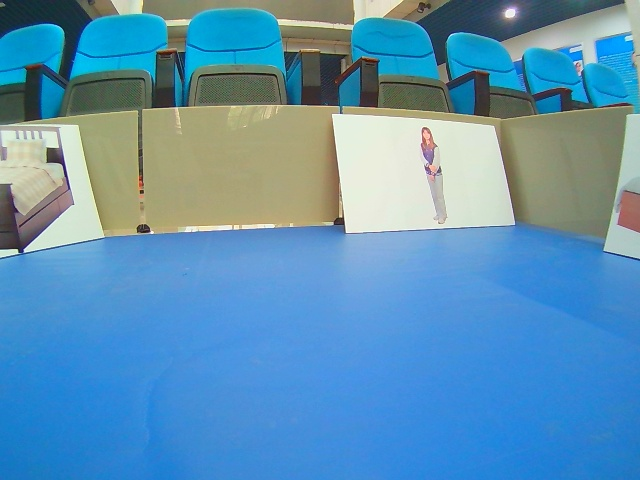person: (332, 115, 518, 237)
